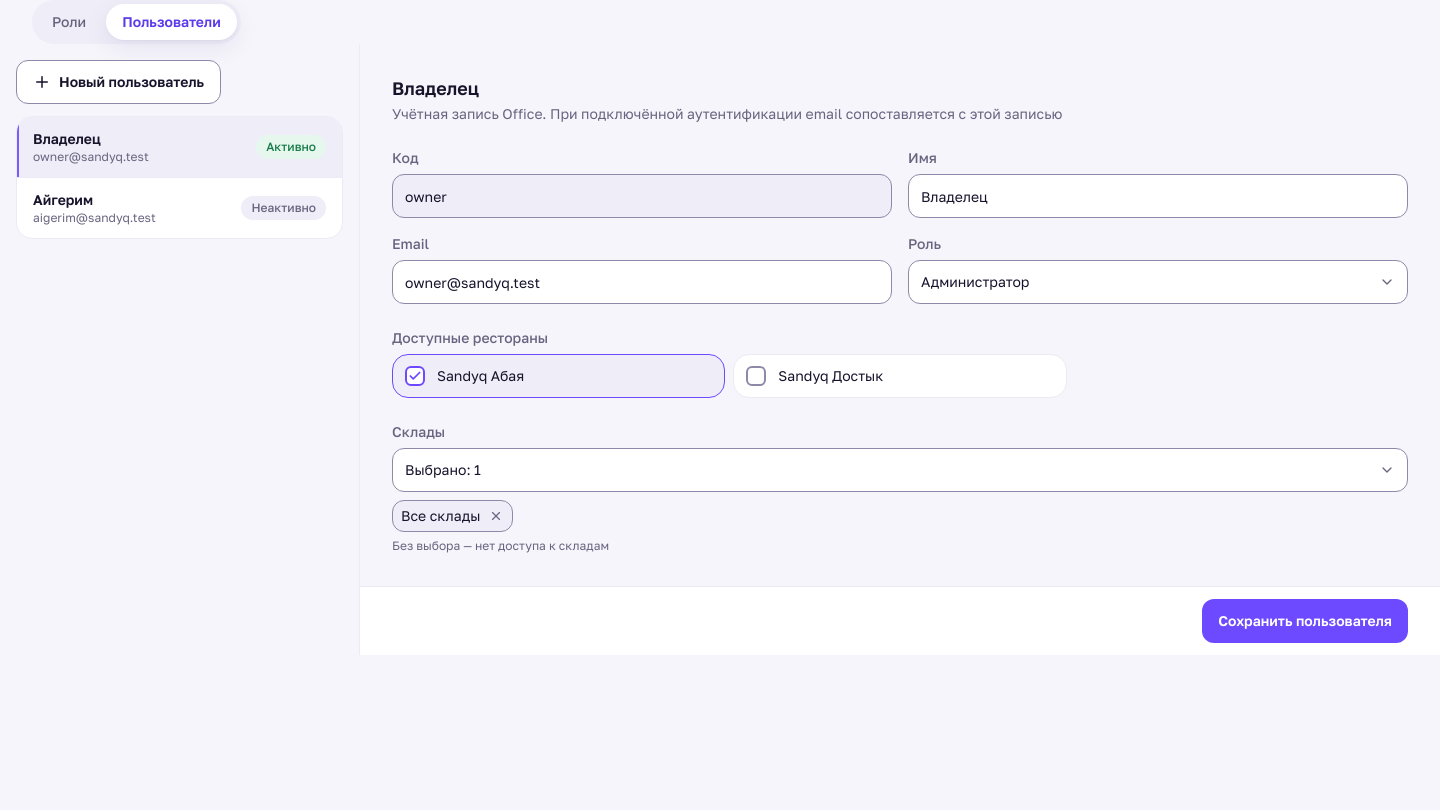
Test: «Пользователи» (W1-ACL-06) › hides the active switch on the editor's own account
The width and height of the screenshot is (1440, 810).
expect the heading "Владелец" is shown: met, box [392,77,479,99]
expect the switch labelled "Учётная запись активна" is not shown: met
Click the button "Айгерим aigerim@sandyq.test Неактивно" at [63, 200], box [17,178,342,238]
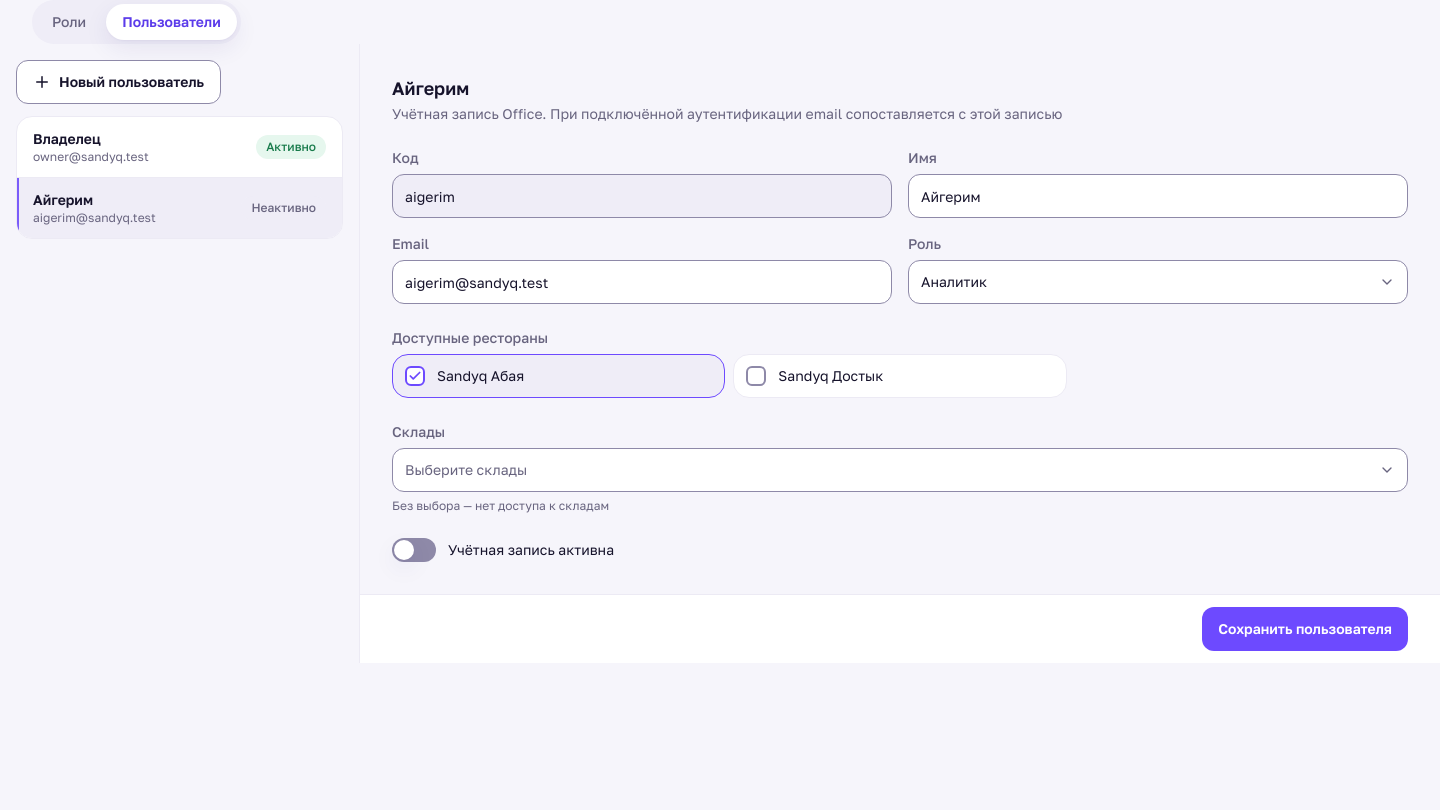
expect the switch named "Учётная запись активна" is shown: met, box [392,538,436,562]
